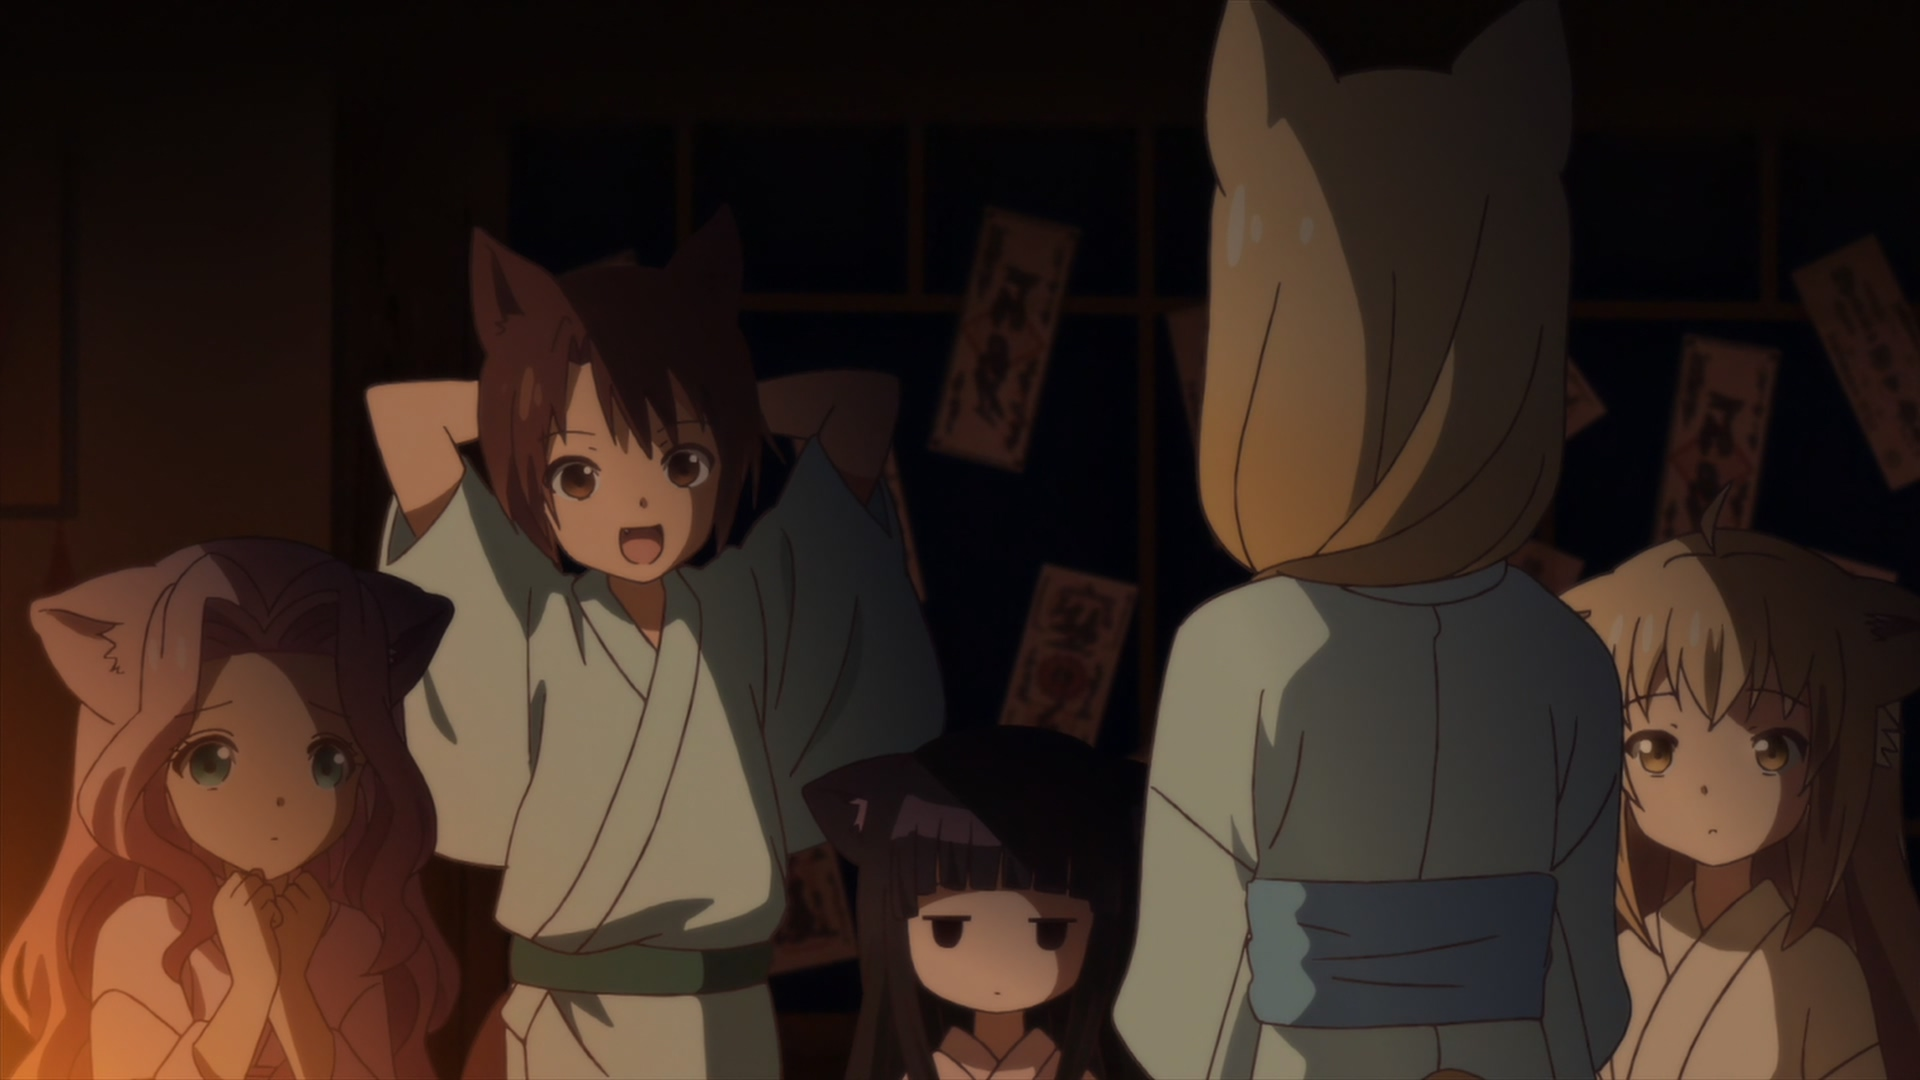枣: (363, 228, 942, 1080)
柚: (1560, 527, 1884, 1080)
桐: (1116, 1, 1633, 1080)
樱: (800, 731, 1150, 1080)
莲: (1, 539, 458, 1080)
